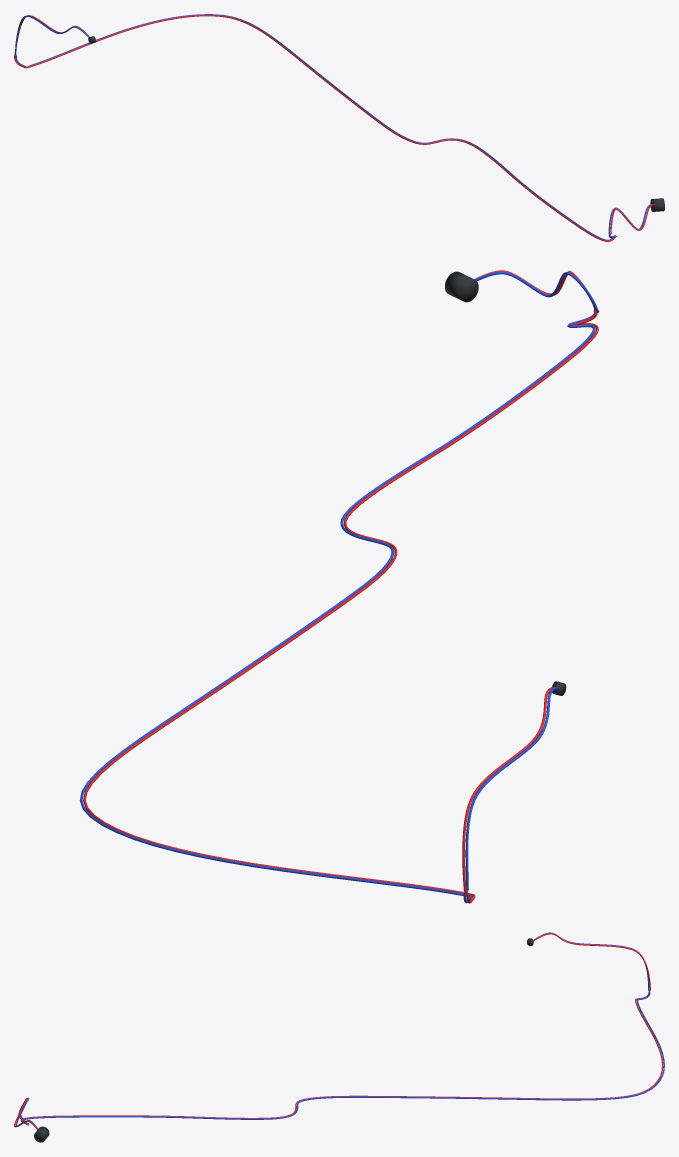
File: FiosEletricos.glb
3 views of the same model, one above another, from view 1: azimuth 30°, elevation 25°; view 2: azimuth 150°, elevation 25°; view 3: azimuth 270°, elevation 25° (orthographic). The views are drawn at different scales.
Visible parts, largest first — view 1: FIO_REAL_VERMELHO_24V, FIO_REAL_AZUL_0V; view 2: FIO_REAL_AZUL_0V, FIO_REAL_VERMELHO_24V; view 3: FIO_REAL_AZUL_0V, FIO_REAL_VERMELHO_24V.
Boxes of the visible parts, bbox=[...] form: FIO_REAL_VERMELHO_24V: bbox=[14, 14, 655, 241]; FIO_REAL_AZUL_0V: bbox=[15, 14, 652, 240]; FIO_REAL_AZUL_0V: bbox=[79, 271, 599, 903]; FIO_REAL_VERMELHO_24V: bbox=[83, 270, 598, 903]; FIO_REAL_AZUL_0V: bbox=[15, 932, 664, 1128]; FIO_REAL_VERMELHO_24V: bbox=[14, 933, 663, 1129].
Size of the model in its own units: 0.9378 by 0.2001 by 1.68.
